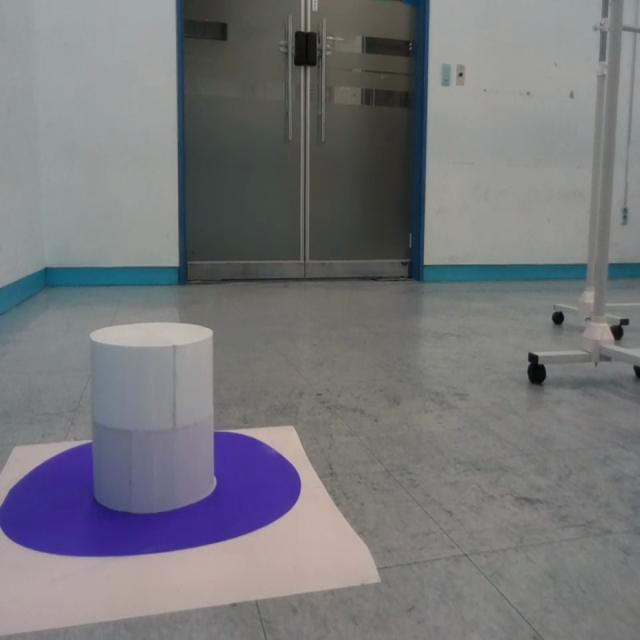cylinder: (90, 322, 215, 514)
